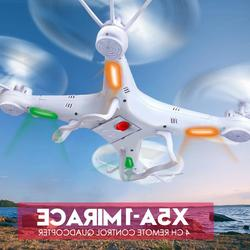drone: (2, 1, 249, 185)
